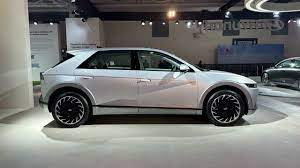Honda Ioniq: (30, 39, 269, 140)
